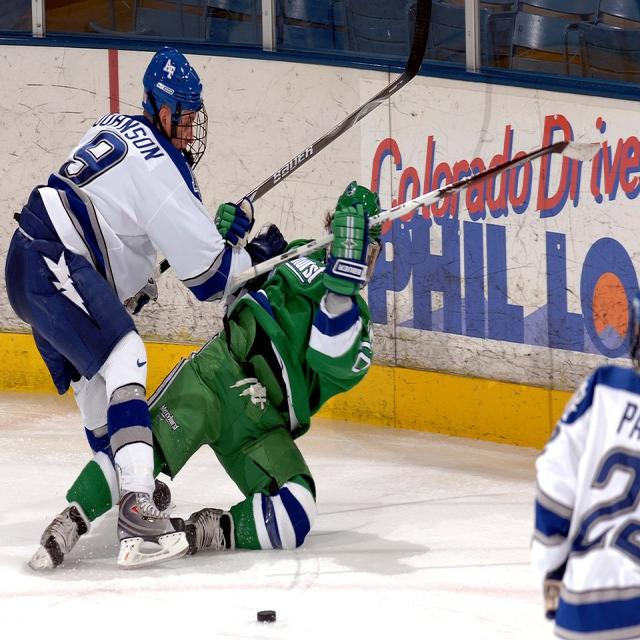body: (2, 37, 291, 574), (22, 177, 385, 573), (530, 329, 640, 640)
